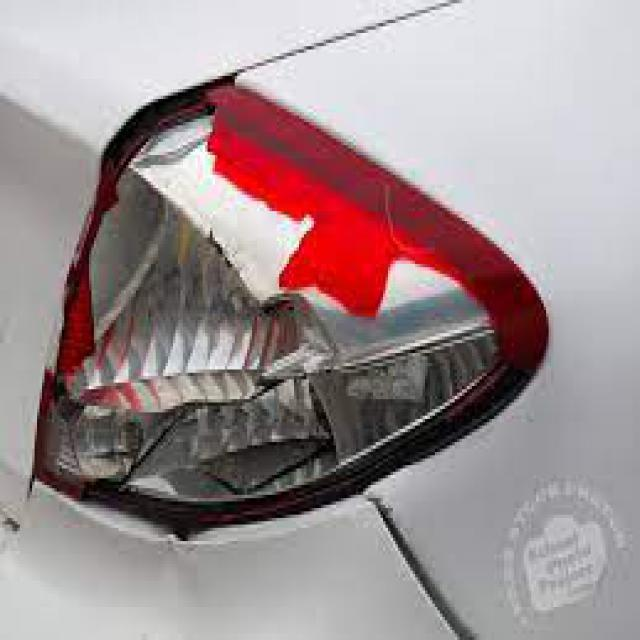Headlight-Damage: (11, 72, 542, 540)
